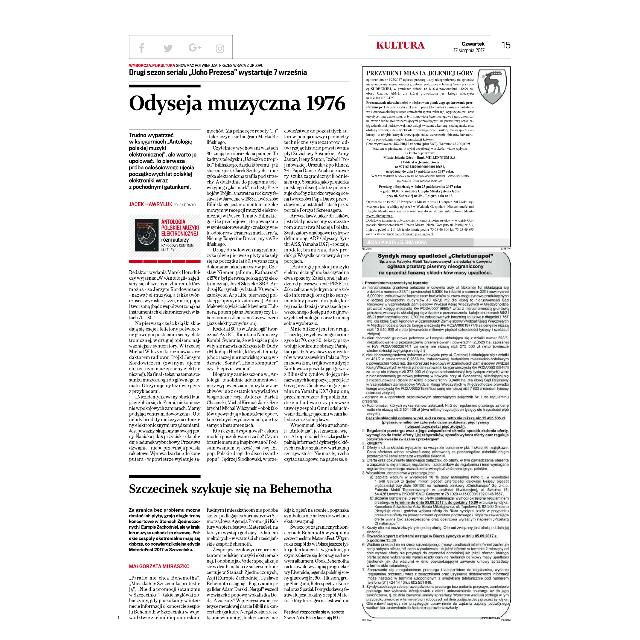article: (128, 84, 352, 466), (126, 474, 350, 622)
